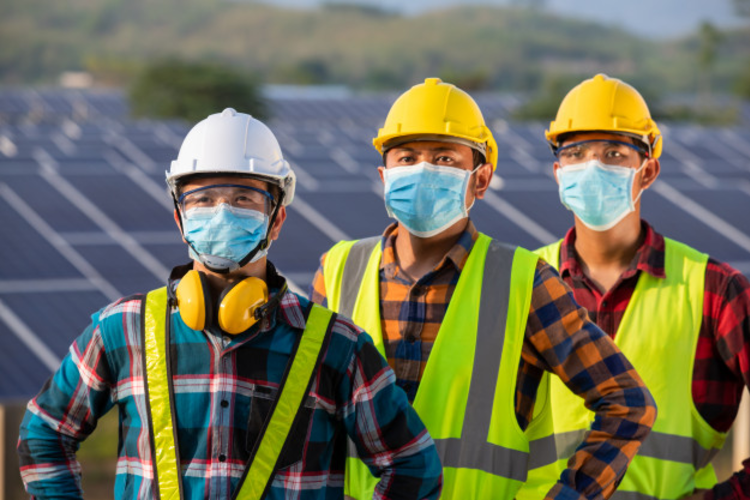Helmet: (135, 105, 317, 287), (369, 72, 501, 245), (541, 70, 675, 233)
Reflective vest: (326, 233, 559, 500), (530, 231, 728, 500), (138, 281, 335, 500)
